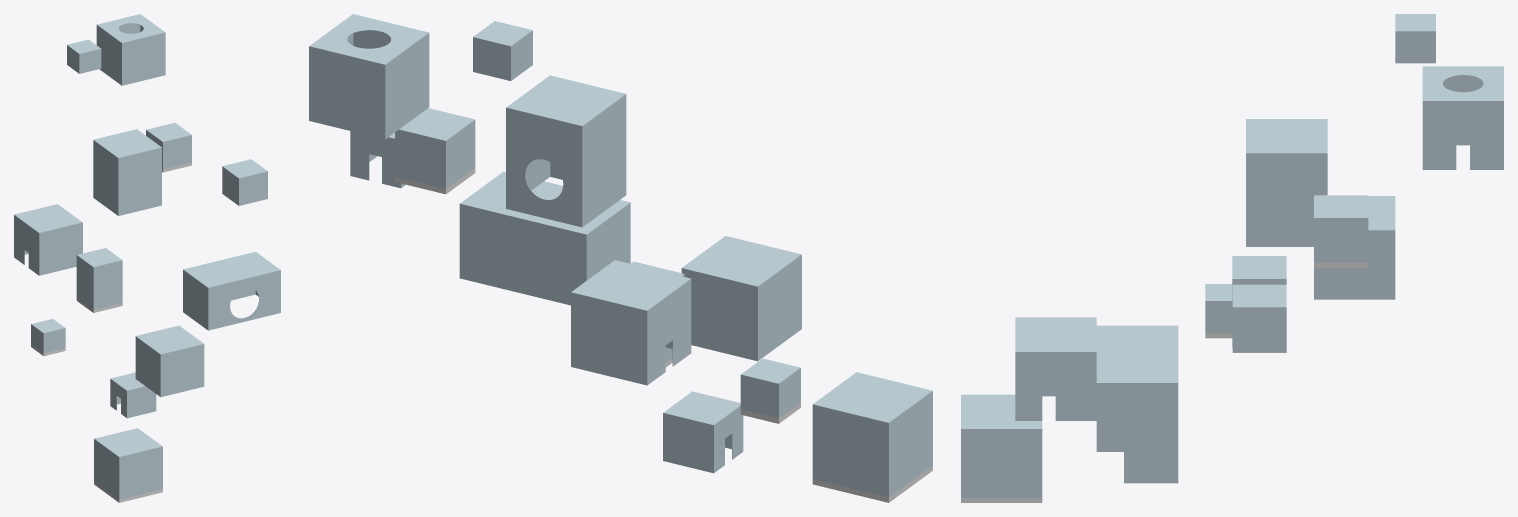
Rendered from stage2-8.fbx.
The picture shows the model from 3 angles, left to right: view 1: azimuth 30°, elevation 25°; view 2: azimuth 150°, elevation 25°; view 3: azimuth 270°, elevation 25°; orthographic projection. The views are drawn at different scales.
Parts seen in each view (by area): view 1: wall, roof; view 2: wall, roof, slab9; view 3: wall, roof.
Boxes of the visible parts, box(x1,y1,x2,y2) form: wall: box(14, 23, 280, 499); roof: box(14, 14, 280, 457); wall: box(309, 30, 932, 497); roof: box(309, 14, 932, 425); slab9: box(812, 465, 932, 502); wall: box(961, 31, 1503, 497); roof: box(961, 14, 1503, 429).
Size of the model in its own units: 1600 by 2151 by 2000.
